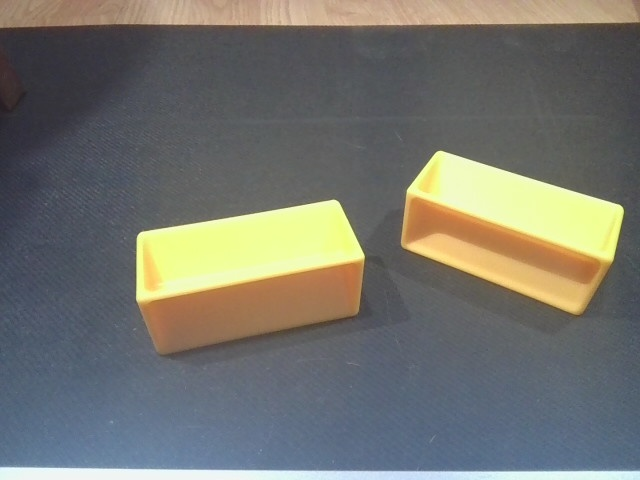YellowSample: (396, 147, 627, 322), (131, 198, 367, 357)
